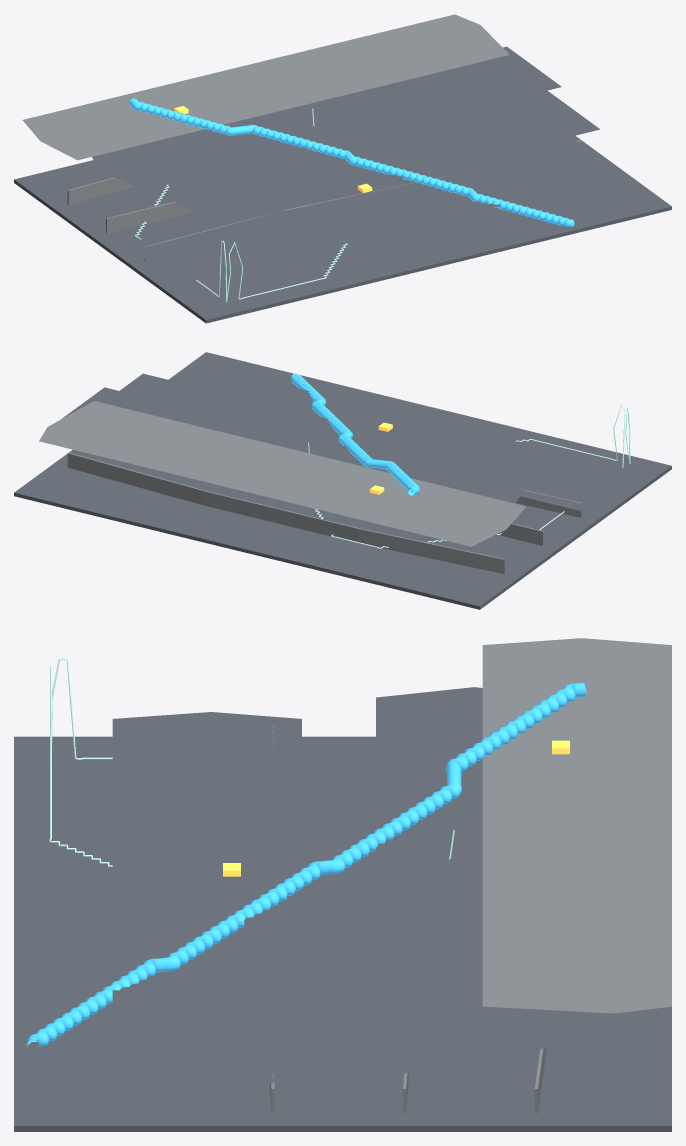
The picture shows the model from 3 angles, top to bottom: view 1: azimuth 30°, elevation 25°; view 2: azimuth 150°, elevation 25°; view 3: azimuth 270°, elevation 25°; orthographic projection. The views are drawn at different scales.
Visible parts, largest first — view 1: ProfileGround, TerrainBand_elevation_band_1, TerrainBand_elevation_band_4, TerrainBand_elevation_band_3, TerrainBand_elevation_band_2, Water_silverfall_watercourse, Cliff_cliff_step_2_0, Cliff_cliff_step_1_0, TerrainBand_elevation_band_5; view 2: ProfileGround, TerrainBand_elevation_band_1, TerrainBand_elevation_band_4, TerrainBand_elevation_band_3, TerrainBand_elevation_band_2, TerrainBand_elevation_band_5, Cliff_cliff_step_1_1, Cliff_cliff_step_1_0, Cliff_cliff_step_1_2, Water_silverfall_watercourse, Cliff_cliff_step_2_0, Cliff_cliff_step_3_0 (+1 smaller); view 3: ProfileGround, TerrainBand_elevation_band_1, TerrainBand_elevation_band_4, TerrainBand_elevation_band_3, TerrainBand_elevation_band_2, TerrainBand_elevation_band_5, Water_silverfall_watercourse.
Boxes of the visible parts, x1,y1,x2,y2 form: ProfileGround: (14,135,671,323); TerrainBand_elevation_band_1: (22,14,509,160); TerrainBand_elevation_band_4: (130,138,617,282); TerrainBand_elevation_band_3: (168,90,600,221); TerrainBand_elevation_band_2: (92,46,561,189); Water_silverfall_watercourse: (129,98,574,226); Cliff_cliff_step_2_0: (106,201,194,233); Cliff_cliff_step_1_0: (67,177,134,204); TerrainBand_elevation_band_5: (215,174,640,307); ProfileGround: (14,352,671,609); TerrainBand_elevation_band_1: (39,401,526,546); TerrainBand_elevation_band_4: (174,365,634,510); TerrainBand_elevation_band_3: (120,373,521,486); TerrainBand_elevation_band_2: (62,387,524,503); TerrainBand_elevation_band_5: (173,355,631,467); Cliff_cliff_step_1_1: (204,490,358,541); Cliff_cliff_step_1_0: (358,528,505,573); Cliff_cliff_step_1_2: (67,452,204,505); Water_silverfall_watercourse: (291,373,420,495); Cliff_cliff_step_2_0: (498,523,543,545); Cliff_cliff_step_3_0: (516,490,582,517); ProfileGround: (14,736,671,1131); TerrainBand_elevation_band_1: (482,638,671,1013); TerrainBand_elevation_band_4: (112,712,301,1087); TerrainBand_elevation_band_3: (244,743,433,1073); TerrainBand_elevation_band_2: (376,687,564,1048); TerrainBand_elevation_band_5: (22,757,170,1122); Water_silverfall_watercourse: (26,682,586,1046).
Size of the model in its own units: 28 by 4.63 by 20.
